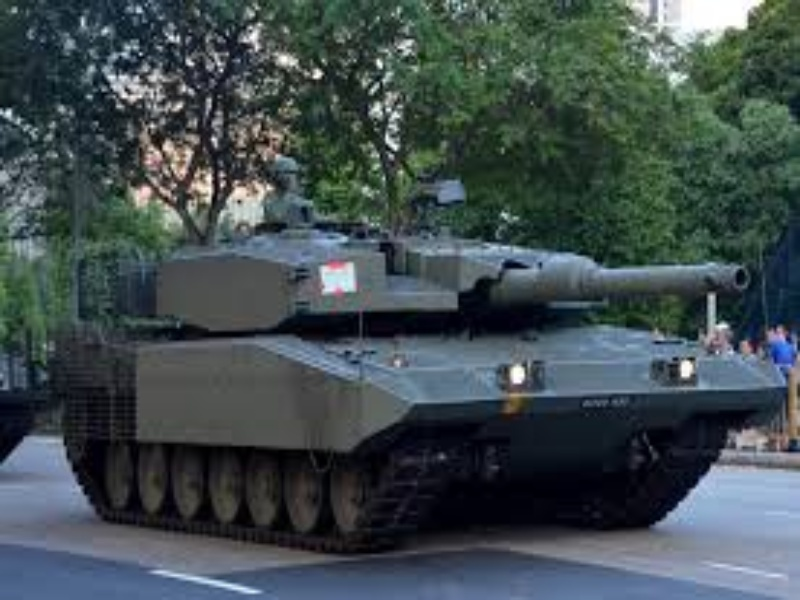tank: (57, 179, 790, 558)
